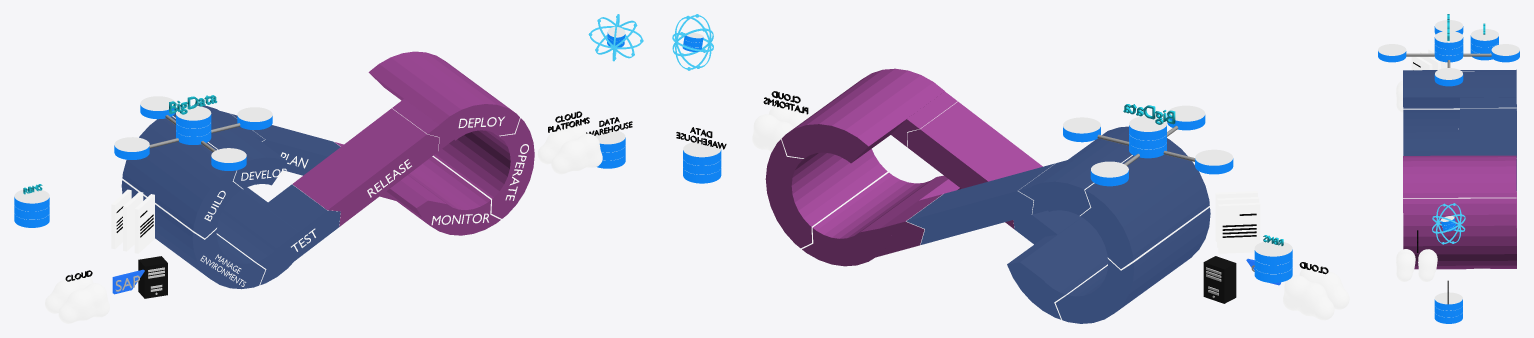
Rendered from DataOps.glb.
3 renders of one model, left to right at view 1: azimuth 30°, elevation 25°; view 2: azimuth 150°, elevation 25°; view 3: azimuth 270°, elevation 25°, orthographic. The views are drawn at different scales.
Visible parts, largest first — view 1: Cylinder.002, Cylinder.006, Cube.003, Mball.001, Mball.007, Cylinder.003, Cube, Cylinder, Cylinder.001, TextBigData; view 2: Cylinder.002, Cylinder.006, Cube.003, Mball.007, Mball.001, Cylinder.003, Cylinder.001, Cube, Cylinder, TextBigData; view 3: Cylinder.002, Cylinder.006, Mball.001, Cylinder.001, Cylinder.003, Cylinder, Cube.003, Mball.007.
Part boxes in pixels (x1=…): Cylinder.002: x1=121, y1=51, x2=534, y2=289; Cylinder.006: x1=114, y1=96, x2=272, y2=170; Cube.003: x1=111, y1=189, x2=154, y2=253; Mball.001: x1=537, y1=123, x2=602, y2=174; Mball.007: x1=45, y1=273, x2=109, y2=323; Cylinder.003: x1=14, y1=188, x2=49, y2=227; Cube: x1=138, y1=256, x2=167, y2=298; Cylinder: x1=588, y1=14, x2=643, y2=61; Cylinder.001: x1=593, y1=129, x2=625, y2=168; TextBigData: x1=169, y1=95, x2=217, y2=114; Cylinder.002: x1=765, y1=68, x2=1210, y2=323; Cylinder.006: x1=1063, y1=105, x2=1233, y2=186; Cube.003: x1=1215, y1=191, x2=1260, y2=253; Mball.007: x1=1283, y1=264, x2=1349, y2=320; Mball.001: x1=752, y1=103, x2=808, y2=152; Cylinder.003: x1=1254, y1=240, x2=1292, y2=282; Cylinder.001: x1=683, y1=141, x2=721, y2=183; Cube: x1=1203, y1=256, x2=1236, y2=303; Cylinder: x1=672, y1=14, x2=713, y2=70; TextBigData: x1=1123, y1=104, x2=1175, y2=124; Cylinder.002: x1=1403, y1=69, x2=1516, y2=269; Cylinder.006: x1=1378, y1=20, x2=1519, y2=86; Mball.001: x1=1396, y1=249, x2=1437, y2=281; Cylinder.001: x1=1434, y1=292, x2=1462, y2=323; Cylinder.003: x1=1470, y1=29, x2=1498, y2=60; Cylinder: x1=1432, y1=203, x2=1465, y2=244; Cube.003: x1=1411, y1=49, x2=1447, y2=70; Mball.007: x1=1396, y1=80, x2=1403, y2=112.
Bounding box in the file's own units: 9.82 × 2.77 × 2.5.
